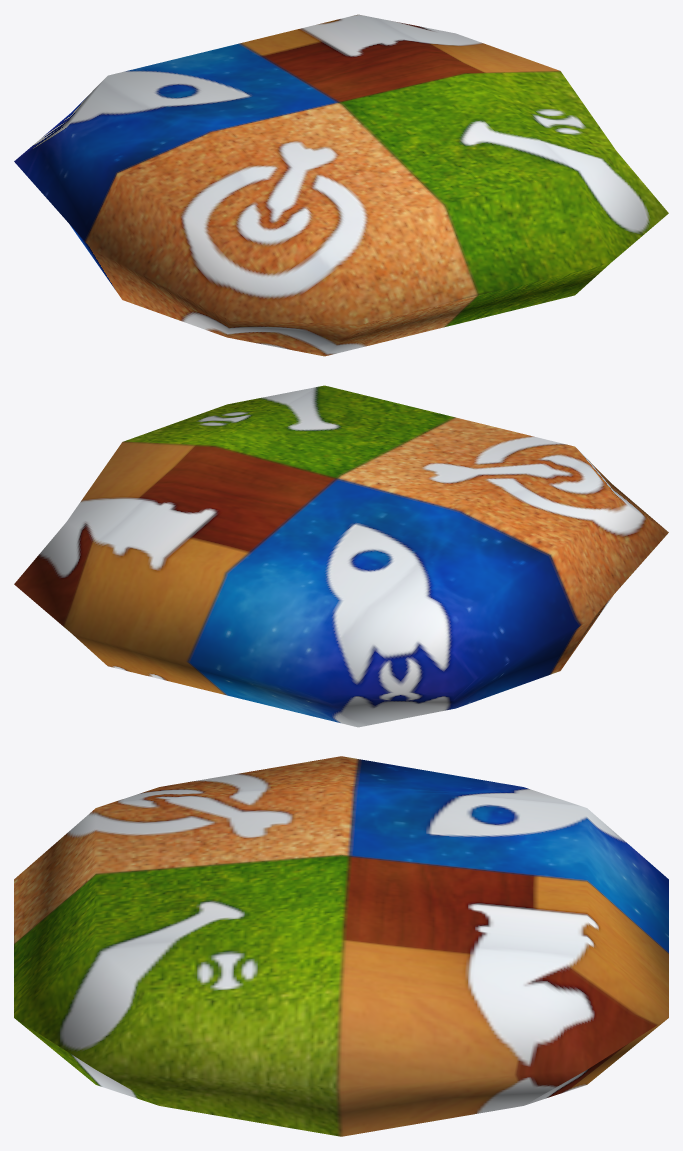
Rendered from gcicon.fbx.
3 renders of one model, top to bottom at view 1: azimuth 30°, elevation 25°; view 2: azimuth 150°, elevation 25°; view 3: azimuth 270°, elevation 25°, orthographic. The views are drawn at different scales.
Visible parts, largest first — view 1: Cube; view 2: Cube; view 3: Cube.
Part boxes in pixels (bbox=[...]): Cube: bbox=[14, 14, 668, 356]; Cube: bbox=[14, 385, 668, 727]; Cube: bbox=[14, 756, 668, 1136].
Bounding box in the file's own units: 2 × 0.6169 × 2.
